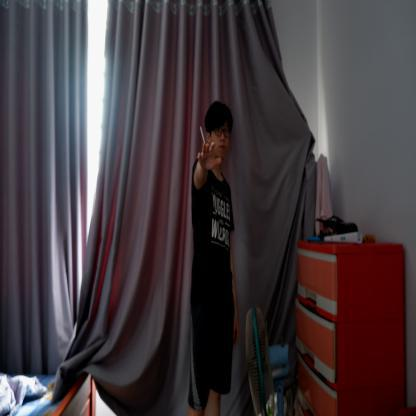cigarette: (200, 126, 206, 144)
person: (184, 100, 241, 416)
